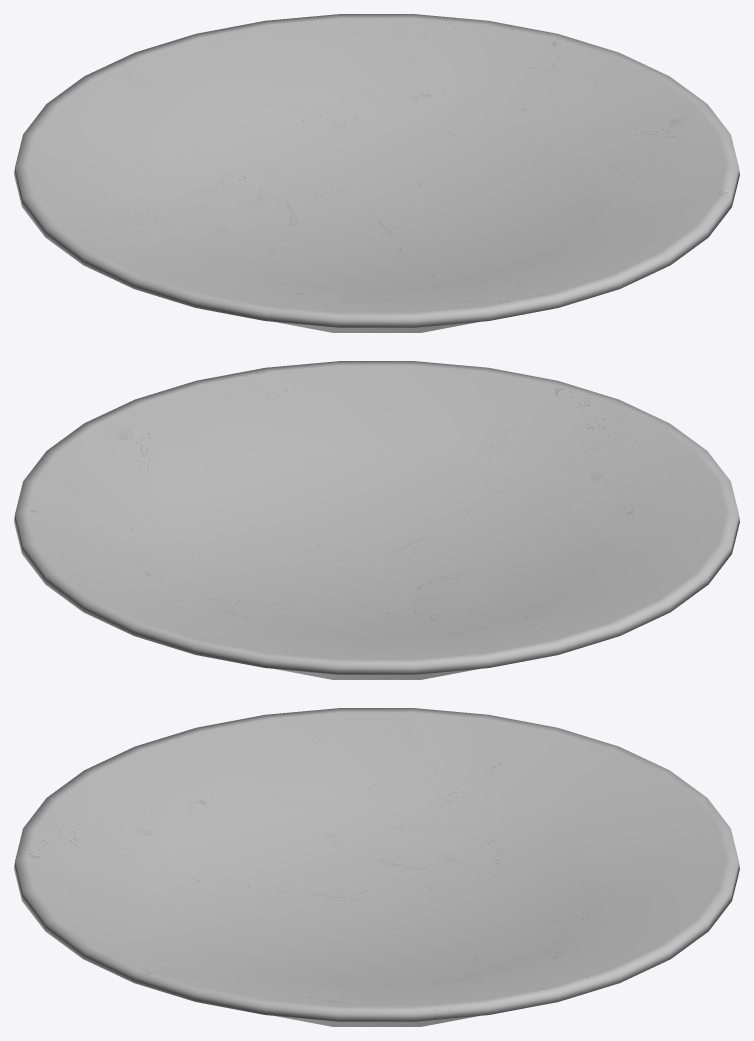
Rendered from SM_Dishes_A1.fbx.
The picture shows the model from 3 angles, top to bottom: view 1: azimuth 30°, elevation 25°; view 2: azimuth 150°, elevation 25°; view 3: azimuth 270°, elevation 25°; orthographic projection.
Visible parts, largest first — view 1: SM_Dishes_A1; view 2: SM_Dishes_A1; view 3: SM_Dishes_A1.
Boxes of the visible parts, x1,y1,x2,y2 form: SM_Dishes_A1: [14, 14, 739, 332]; SM_Dishes_A1: [14, 361, 739, 679]; SM_Dishes_A1: [14, 708, 739, 1026].
Size of the model in its own units: 23.98 by 24.11 by 2.86.
1 material, 1 textured.
